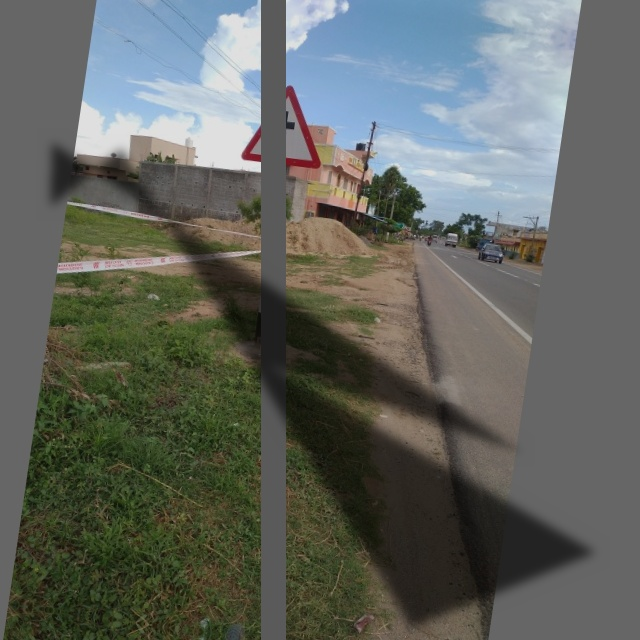Staggered_Intersection: (236, 75, 344, 182)
